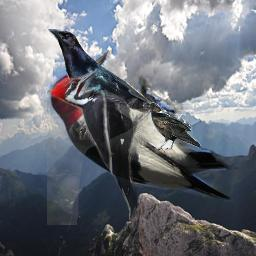Crow: (48, 29, 191, 140), (143, 102, 201, 155)
Woodpecker: (40, 48, 243, 202), (47, 70, 152, 225)
